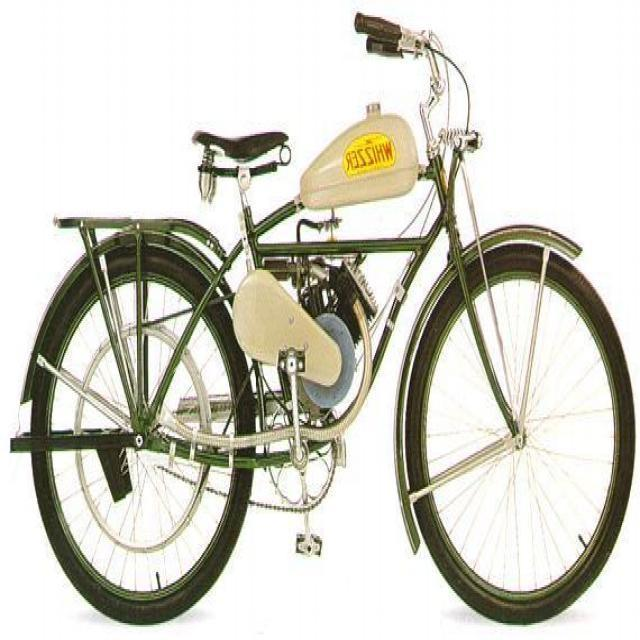Motorcycle: (20, 20, 639, 631)
